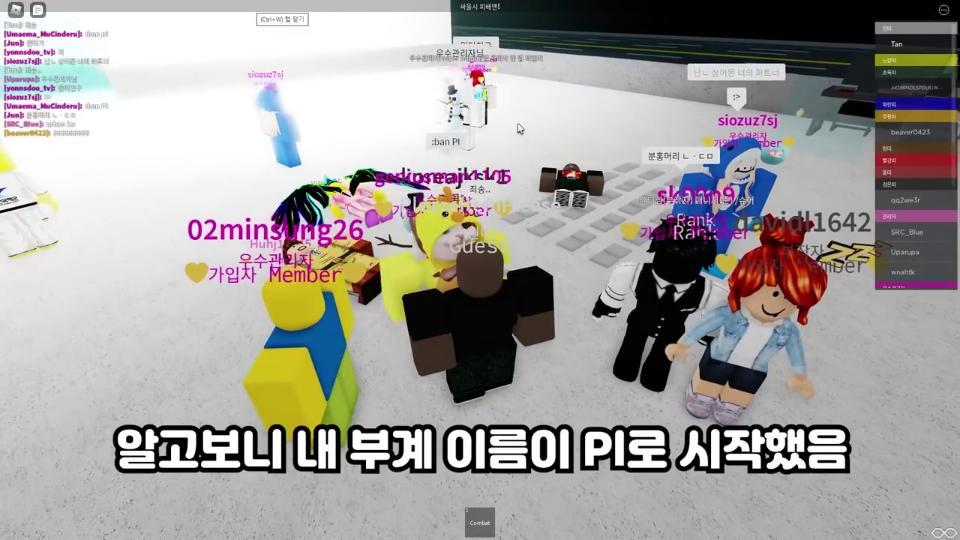Character: (666, 214, 828, 425), (402, 243, 556, 404), (592, 218, 729, 392), (242, 265, 359, 448), (381, 186, 508, 322), (673, 137, 778, 253), (273, 166, 432, 235), (283, 235, 381, 305), (435, 67, 487, 151), (256, 81, 302, 168), (540, 162, 605, 207)
